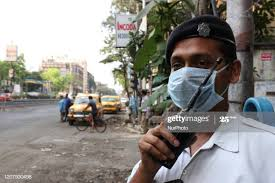mask: (166, 39, 235, 117)
